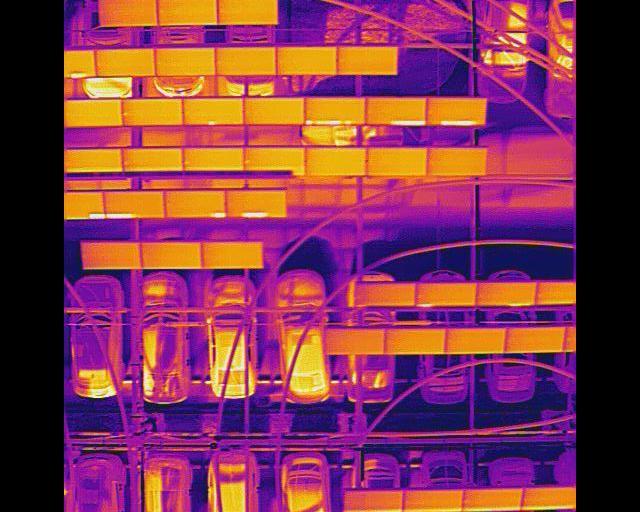Cell: (184, 97, 243, 125)
No-Anomaly: (365, 148, 431, 176), (156, 47, 216, 76), (337, 46, 399, 74), (141, 241, 205, 268), (81, 241, 142, 269), (276, 47, 337, 75), (383, 329, 451, 354), (245, 96, 305, 124), (305, 148, 369, 174), (203, 241, 262, 269), (215, 47, 276, 74), (507, 326, 567, 353), (428, 148, 488, 175), (122, 99, 183, 125), (99, 0, 159, 26), (96, 50, 156, 76), (244, 146, 306, 171), (323, 329, 387, 353), (182, 146, 243, 171), (157, 0, 217, 25), (64, 147, 123, 172), (342, 489, 406, 512), (463, 488, 526, 511), (446, 330, 508, 353), (355, 282, 414, 306), (217, 0, 278, 23), (122, 147, 183, 170), (475, 283, 538, 305), (402, 490, 466, 511), (416, 283, 477, 305), (519, 488, 576, 510)
Unclassified: (165, 188, 227, 217), (105, 189, 165, 217), (426, 98, 486, 126), (367, 97, 429, 124), (227, 189, 286, 217), (305, 98, 365, 124)
